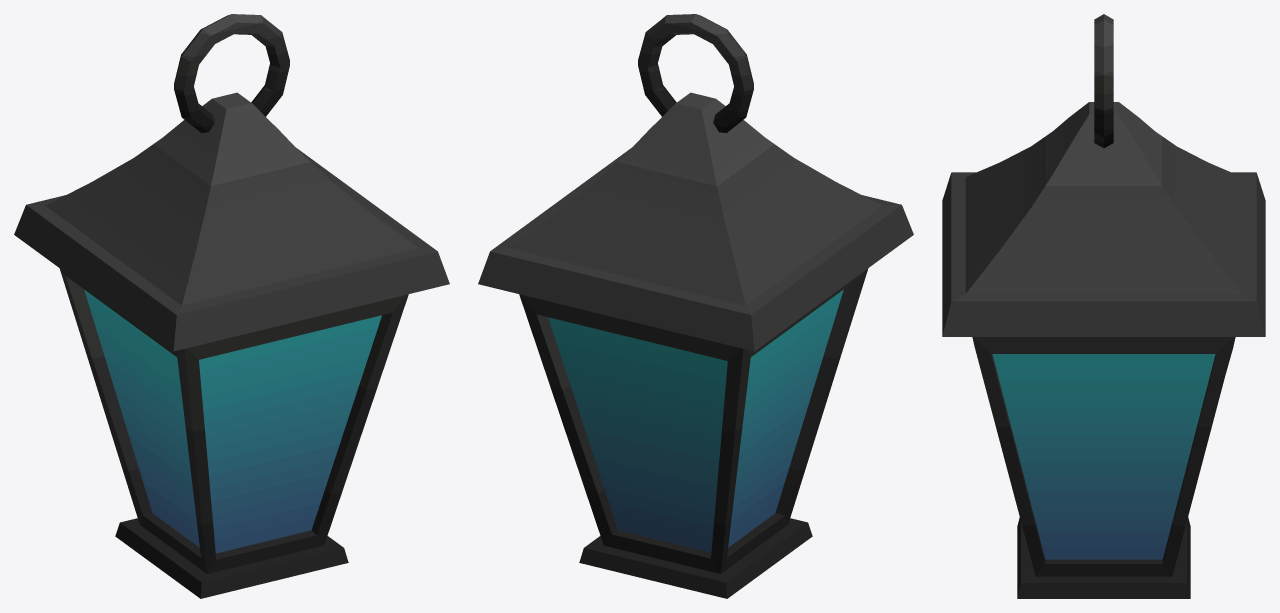
Rendered from SM_lantern.fbx.
3 renders of one model, left to right at view 1: azimuth 30°, elevation 25°; view 2: azimuth 150°, elevation 25°; view 3: azimuth 270°, elevation 25°, orthographic.
Visible parts, largest first — view 1: SM_lantern, SM_lanternRing; view 2: SM_lantern, SM_lanternRing; view 3: SM_lantern, SM_lanternRing.
Part boxes in pixels (box(x1,y1,x2,y2)): SM_lantern: box(14, 92, 449, 598); SM_lanternRing: box(174, 14, 289, 133); SM_lantern: box(478, 92, 913, 598); SM_lanternRing: box(638, 14, 753, 133); SM_lantern: box(942, 102, 1265, 598); SM_lanternRing: box(1094, 14, 1113, 147).
Size of the model in its own units: 31.18 by 57.75 by 31.18.
